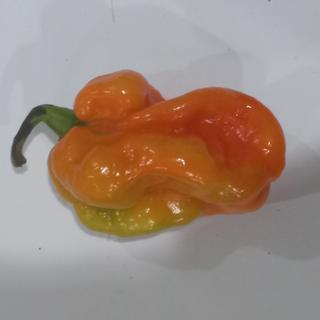Grade-A: (43, 60, 291, 242)
